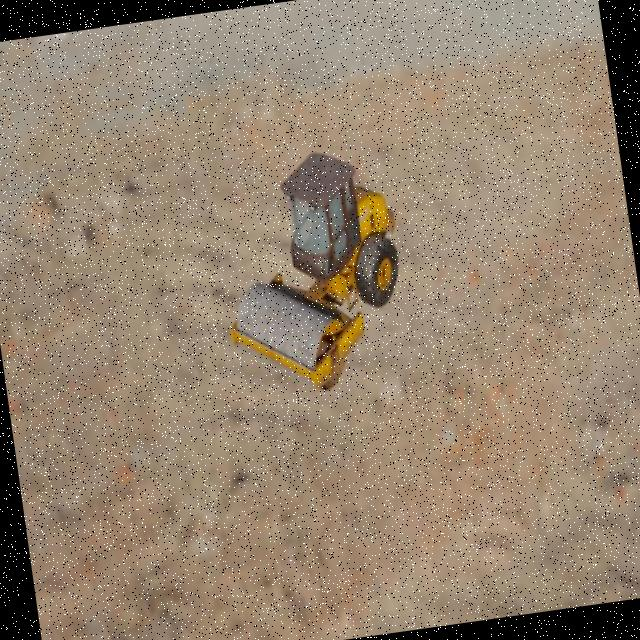Roller: (207, 141, 418, 404)
